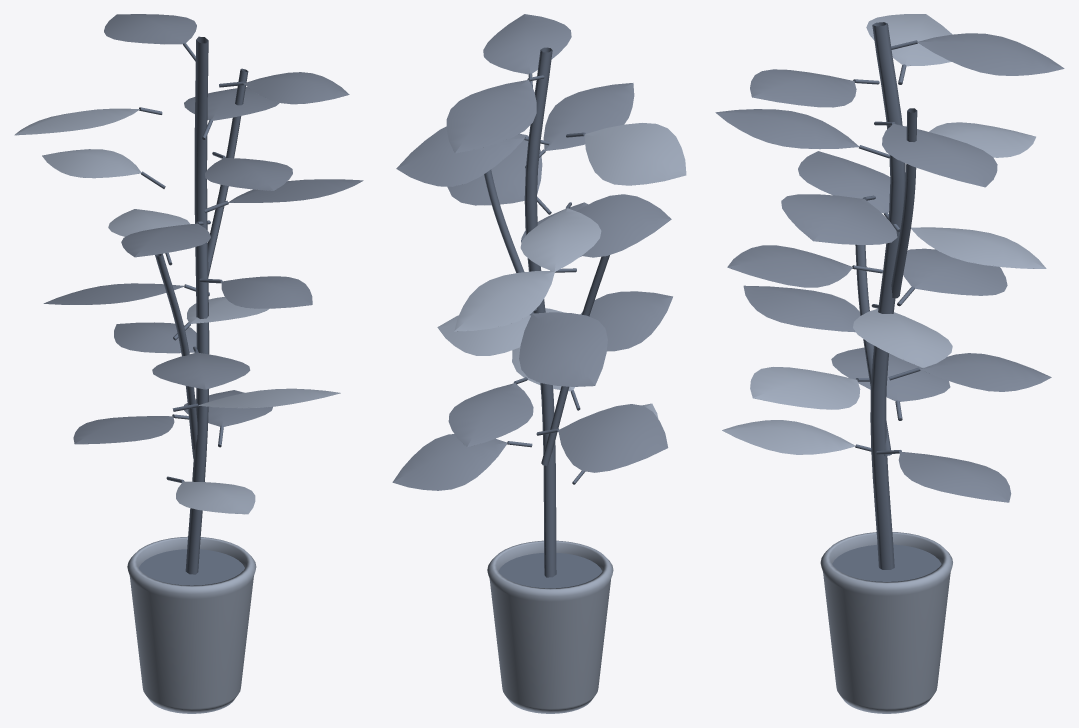
3 views of the same model, side by side, from view 1: azimuth 30°, elevation 25°; view 2: azimuth 150°, elevation 25°; view 3: azimuth 270°, elevation 25° (orthographic). The views are drawn at different scales.
Visible parts, largest first — view 1: light, body, soft, dark, glass; view 2: light, body, soft, dark, glass; view 3: light, soft, body, dark, glass.
Boxes of the visible parts, x1,y1,x2,y2 form: light: [43, 14, 363, 444]; body: [127, 536, 256, 713]; soft: [14, 108, 340, 514]; dark: [139, 36, 248, 574]; glass: [138, 549, 244, 585]; light: [392, 14, 672, 490]; body: [487, 540, 613, 713]; soft: [437, 123, 686, 418]; dark: [484, 47, 609, 577]; glass: [498, 553, 602, 588]; light: [715, 33, 1064, 502]; soft: [722, 14, 1046, 454]; body: [820, 532, 952, 713]; dark: [852, 22, 920, 569]; glass: [832, 544, 941, 581].
Size of the model in its own units: 0.7502 by 1.6 by 0.75.
